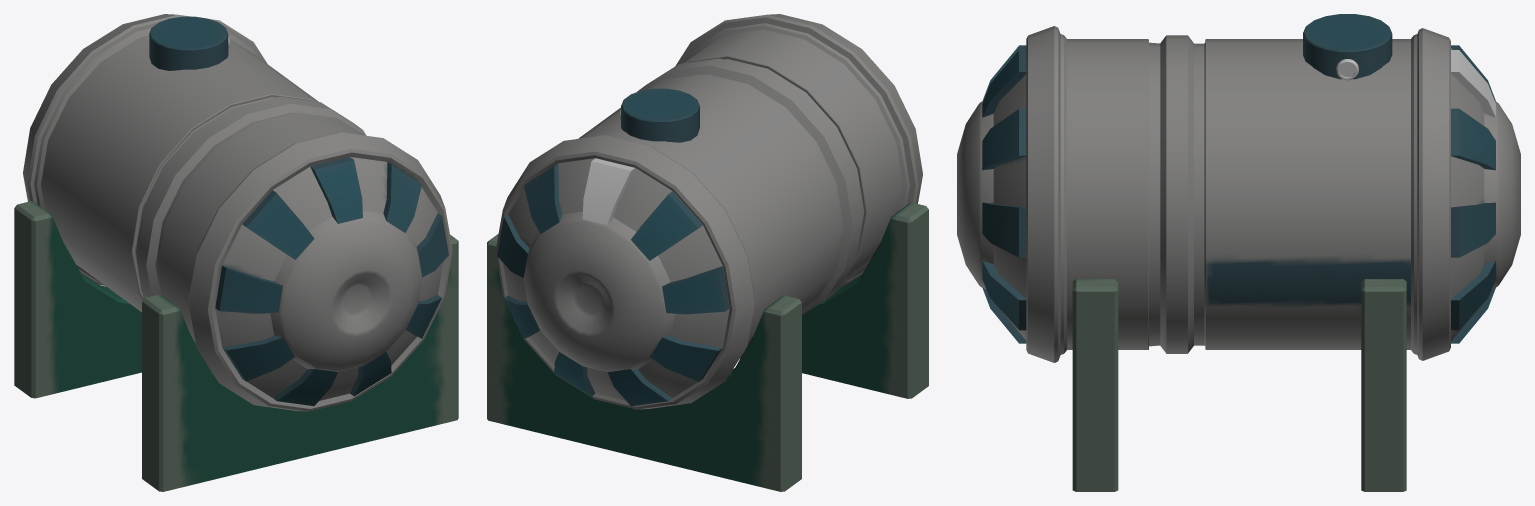
File: Sci fi Barrel.fbx
3 renders of one model, left to right at view 1: azimuth 30°, elevation 25°; view 2: azimuth 150°, elevation 25°; view 3: azimuth 270°, elevation 25°, orthographic. The views are drawn at different scales.
Visible parts, largest first — view 1: Sci fi Barrel; view 2: Sci fi Barrel; view 3: Sci fi Barrel.
Part boxes in pixels (box(x1,y1,x2,y2)): Sci fi Barrel: box(14, 14, 458, 491); Sci fi Barrel: box(487, 14, 928, 491); Sci fi Barrel: box(957, 14, 1520, 491).
Size of the model in its own units: 46.82 by 49.95 by 67.63.
